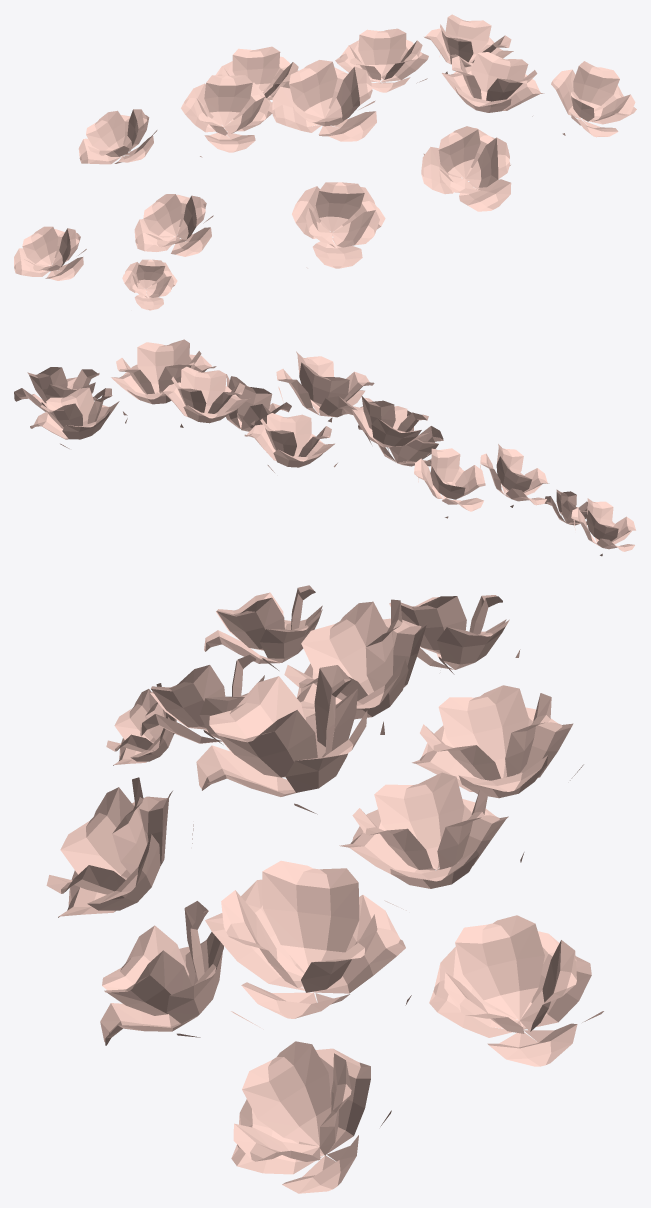
Rendered from 20_openskp_material_66.001.obj.
3 renders of one model, top to bottom at view 1: azimuth 30°, elevation 25°; view 2: azimuth 150°, elevation 25°; view 3: azimuth 270°, elevation 25°, orthographic. The views are drawn at different scales.
Parts seen in each view (by area): view 1: 20_openskp_material_66.001; view 2: 20_openskp_material_66.001; view 3: 20_openskp_material_66.001.
Part boxes in pixels (x1,y1,x2,y2): 20_openskp_material_66.001: (14,14,636,310); 20_openskp_material_66.001: (14,339,635,556); 20_openskp_material_66.001: (46,585,603,1193).
Bounding box in the file's own units: 13.82 × 3.24 × 5.52.
